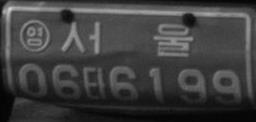0: (18, 62, 47, 98)
1: (142, 67, 173, 105)
6: (108, 64, 141, 102), (51, 63, 82, 100)
9: (211, 68, 243, 108), (176, 67, 207, 107)
서울_D: (60, 20, 194, 58)
영: (18, 19, 52, 53)
타: (81, 65, 106, 101)
